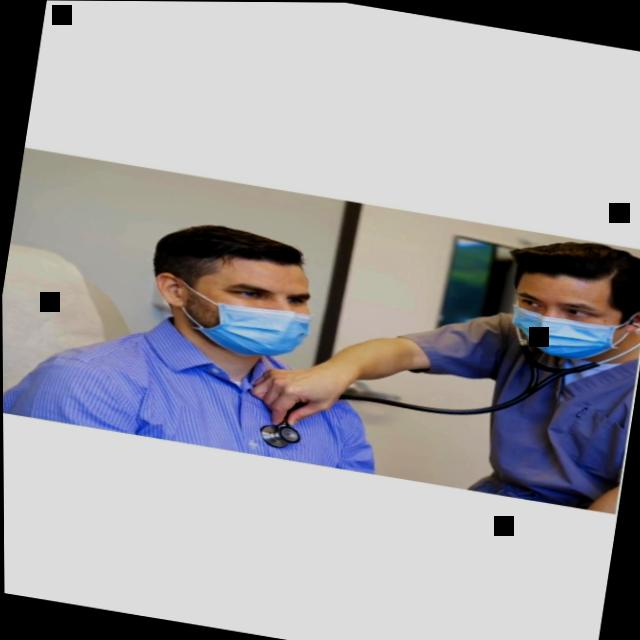Mask: (158, 236, 324, 364), (500, 246, 640, 376)
